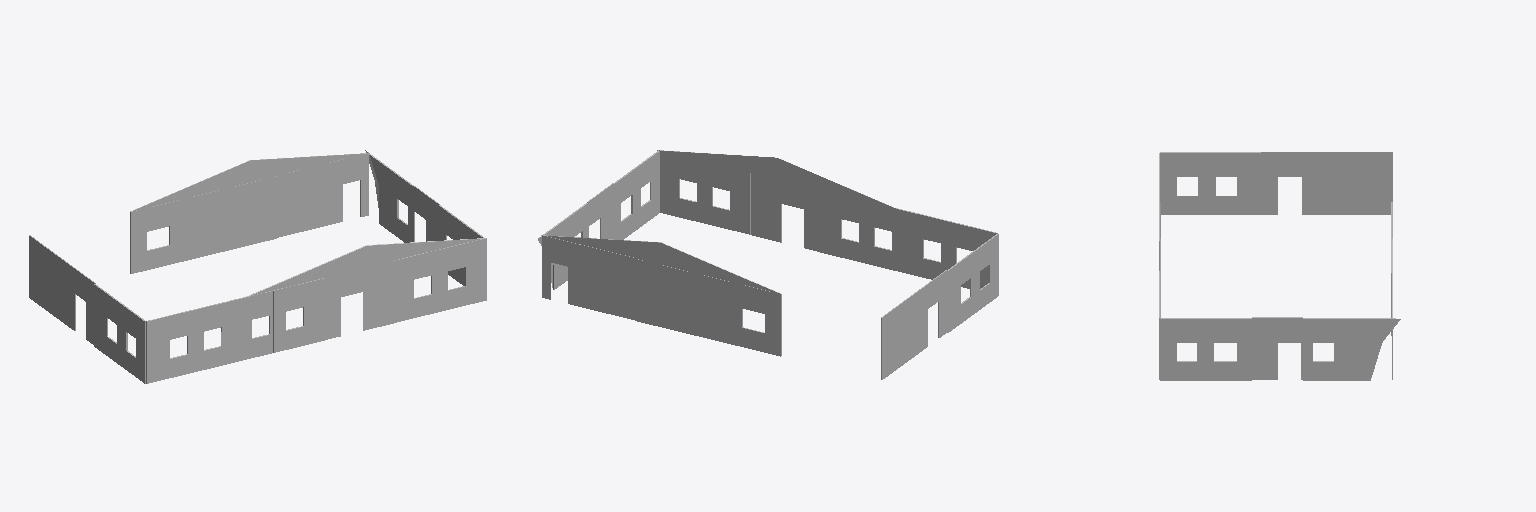
Rendered from house.obj.
3 views of the same model, side by side, from view 1: azimuth 30°, elevation 25°; view 2: azimuth 150°, elevation 25°; view 3: azimuth 270°, elevation 25° (orthographic).
Visible parts, largest first — view 1: house; view 2: house; view 3: house.
Part boxes in pixels (left/top/right/bottom): house: left=29, top=150, right=486, bottom=383; house: left=538, top=150, right=998, bottom=379; house: left=1159, top=152, right=1400, bottom=380.
Size of the model in its own units: 40.42 by 9.53 by 24.84.